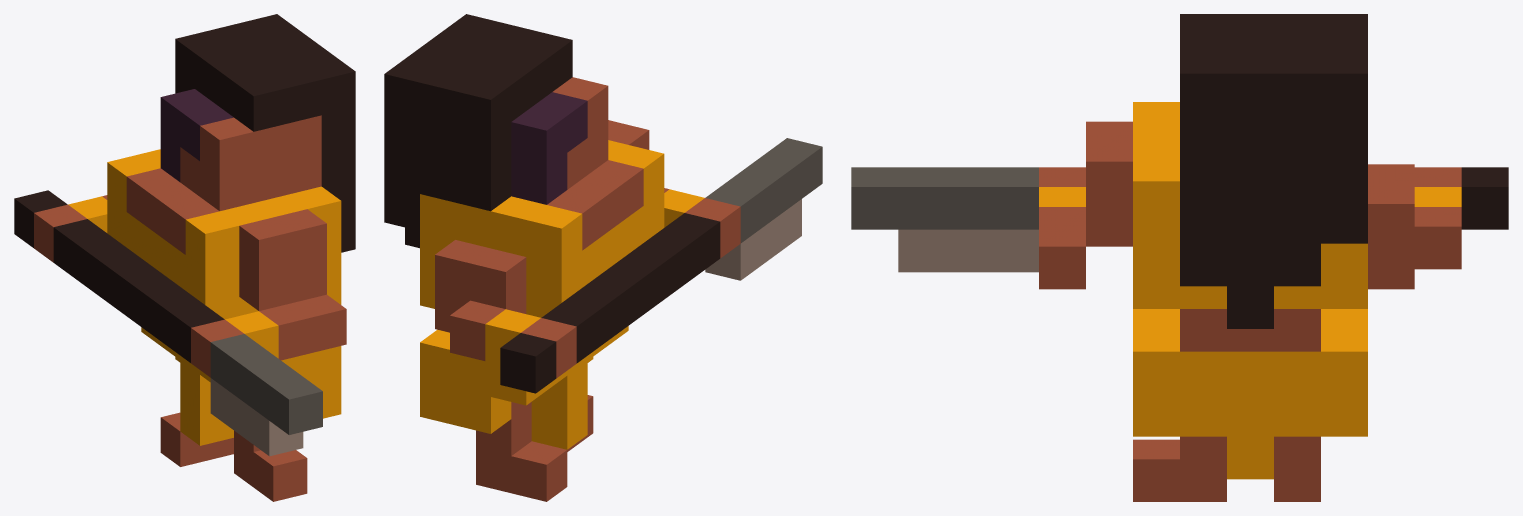
The model's file is amazon_action_1.obj.
3 renders of one model, left to right at view 1: azimuth 30°, elevation 25°; view 2: azimuth 150°, elevation 25°; view 3: azimuth 270°, elevation 25°, orthographic. The views are drawn at different scales.
Bounding box in the file's own units: 0.6 × 1.1 × 1.4.
Materials: 1 (1 with a texture image).
